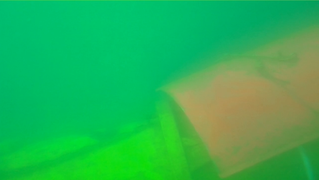leak: (154, 24, 319, 178)
pipe: (1, 103, 217, 180), (222, 135, 319, 179)
